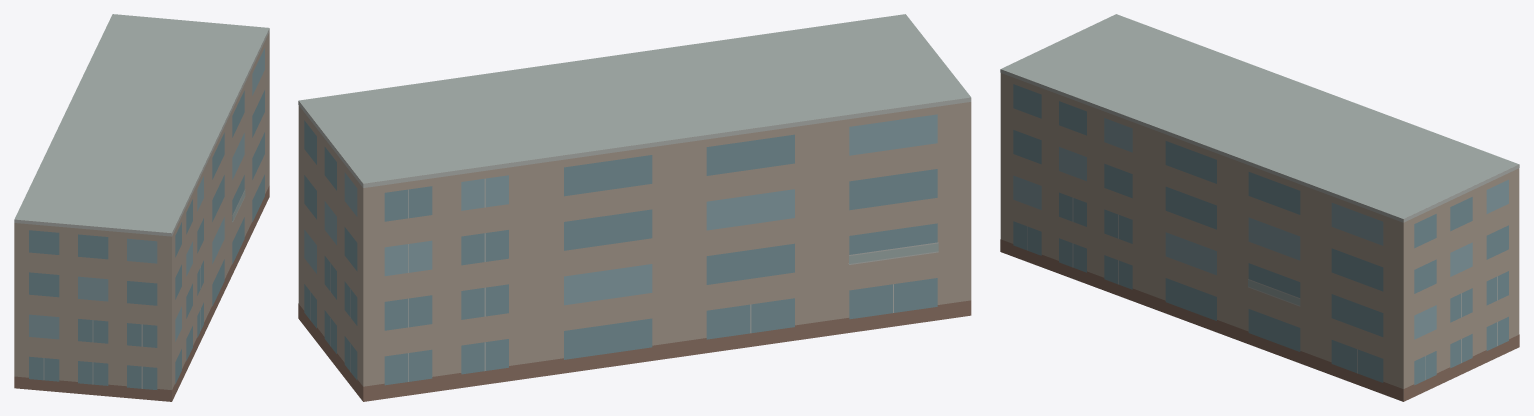
File: survey-upis-32755418.glb
3 views of the same model, side by side, from view 1: azimuth 30°, elevation 25°; view 2: azimuth 150°, elevation 25°; view 3: azimuth 270°, elevation 25° (orthographic). The views are drawn at different scales.
Visible parts, largest first — view 1: survey-upis-32755418.tmp; view 2: survey-upis-32755418.tmp; view 3: survey-upis-32755418.tmp.
Boxes of the visible parts, x1,y1,x2,y2 form: survey-upis-32755418.tmp: [14, 14, 269, 401]; survey-upis-32755418.tmp: [298, 14, 971, 401]; survey-upis-32755418.tmp: [1000, 14, 1519, 401].
Size of the model in its own units: 29.36 by 12.2 by 31.4.
